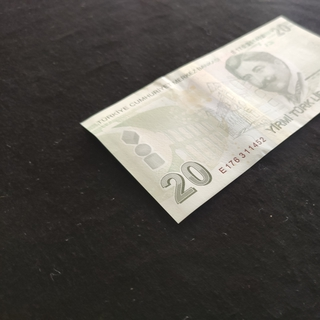20TLBack: (78, 14, 320, 224)
